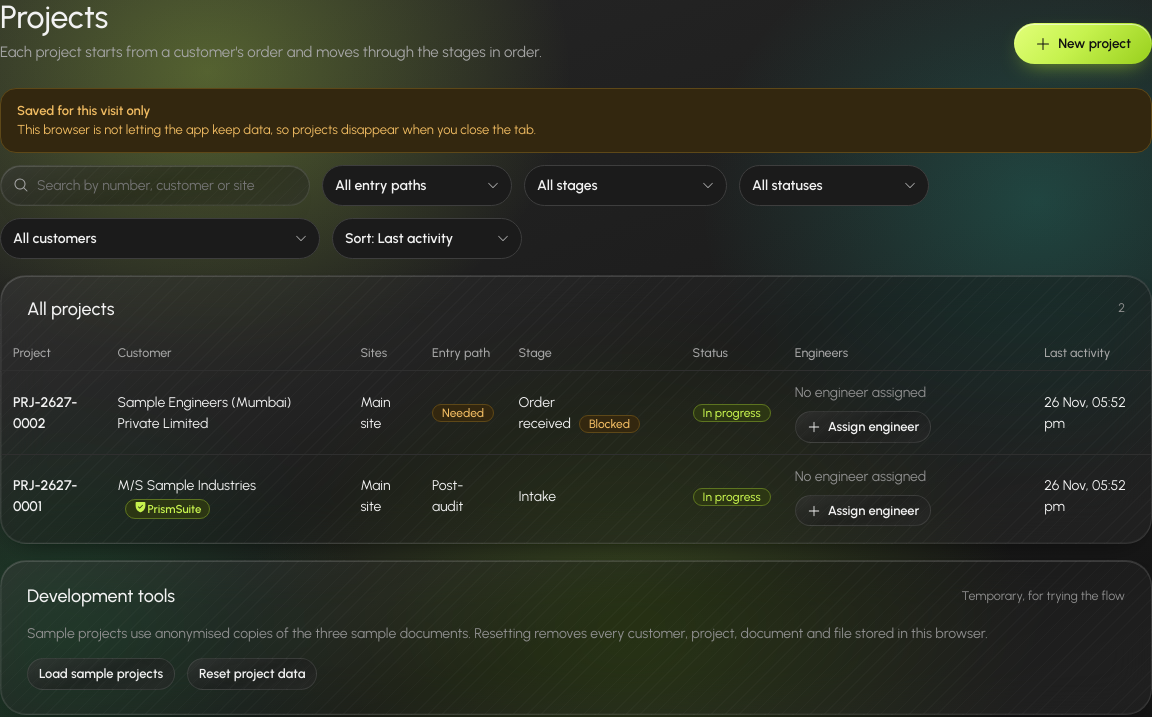
Test case: projects list › filters by search text and entry path
The width and height of the screenshot is (1152, 717).
Expected: the link "PRJ-2627-0001" is shown, [13,477,78,515]
Type "engineers" into the field named "Search projects" at coordinates (167, 185), box [37,167,297,204]
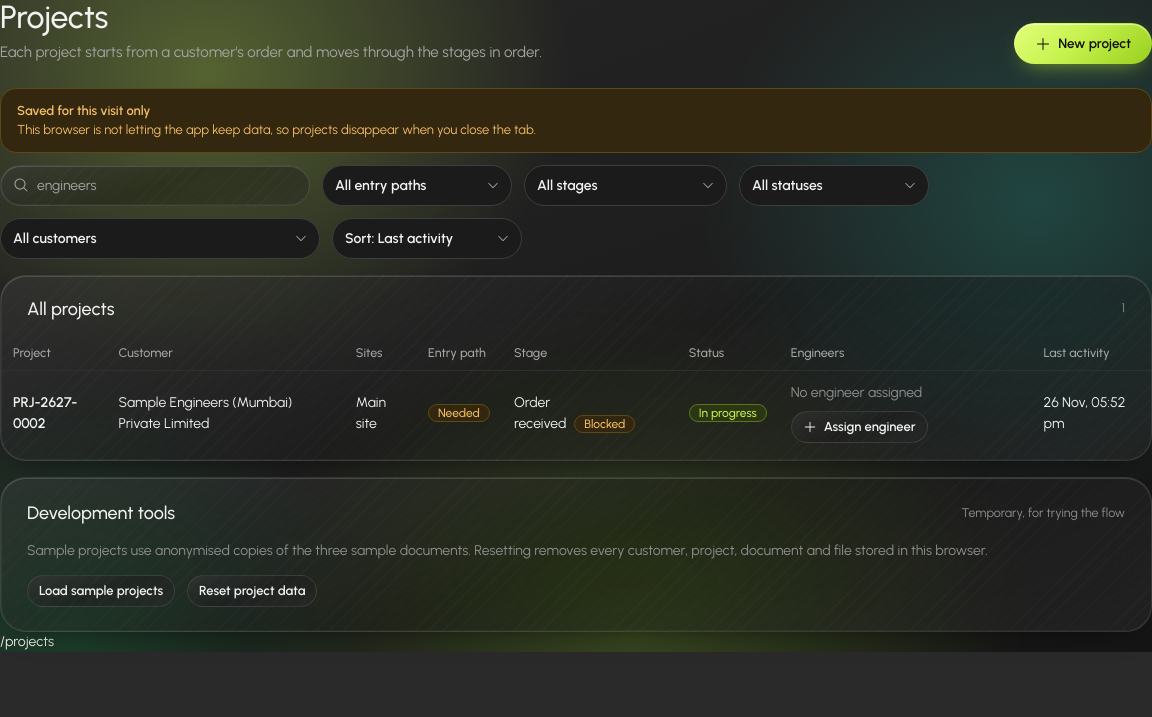
Expected: the link "PRJ-2627-0002" is shown, [13,394,78,432]
Result: the link "PRJ-2627-0001" is gone
Clear the field named "Search projects" at coordinates (167, 185), box [37,167,297,204]
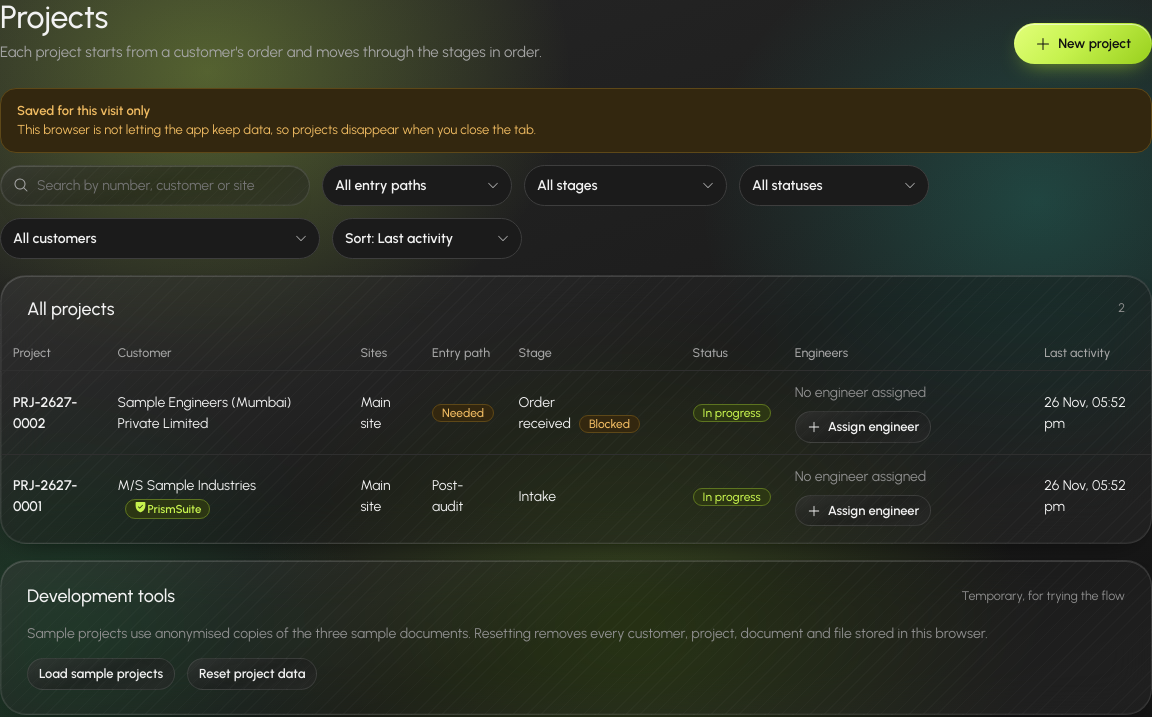
Select "Post-audit" in the dropdown named "Filter by entry path" at coordinates (417, 185), box [322,165,512,206]
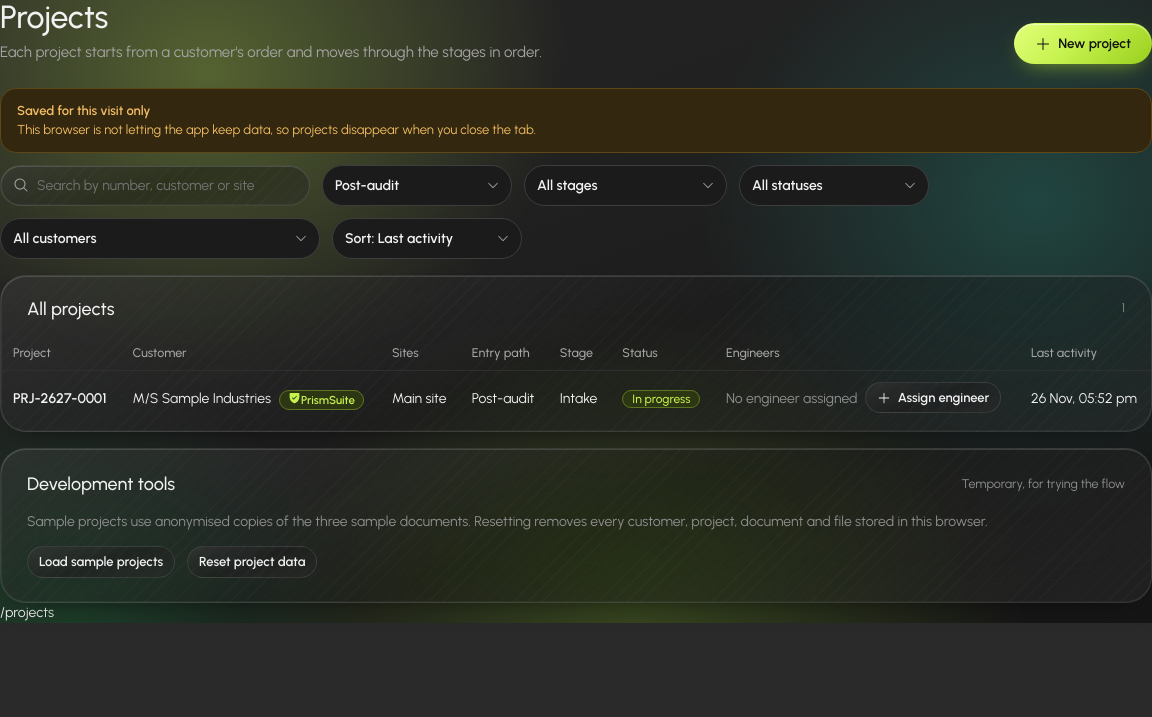
Result: the link "PRJ-2627-0001" is shown at [13,390,107,407]
Result: the link "PRJ-2627-0002" is gone
